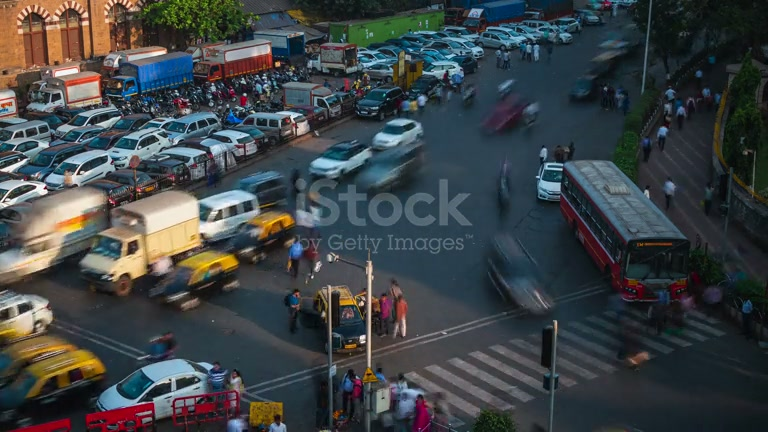bus: (558, 158, 693, 306), (78, 187, 203, 297), (0, 184, 111, 286), (102, 48, 194, 112), (191, 39, 274, 85)
car: (88, 357, 240, 429), (0, 334, 108, 426), (486, 230, 557, 319), (146, 249, 241, 308), (209, 208, 297, 264), (353, 143, 425, 198), (196, 188, 262, 244), (41, 149, 117, 191), (0, 290, 54, 346), (308, 139, 374, 181), (85, 169, 159, 206), (479, 93, 541, 136), (153, 143, 216, 185), (182, 136, 236, 178), (237, 168, 290, 208), (370, 117, 425, 155), (248, 109, 312, 141), (354, 86, 406, 120), (208, 128, 259, 161), (535, 161, 565, 202), (568, 76, 596, 101)
pedestrian: (285, 289, 302, 333), (287, 236, 304, 279), (393, 291, 408, 339), (412, 396, 431, 431), (206, 361, 228, 391), (663, 176, 676, 212), (268, 414, 287, 432), (656, 124, 668, 150)
truck: (78, 187, 203, 297)
